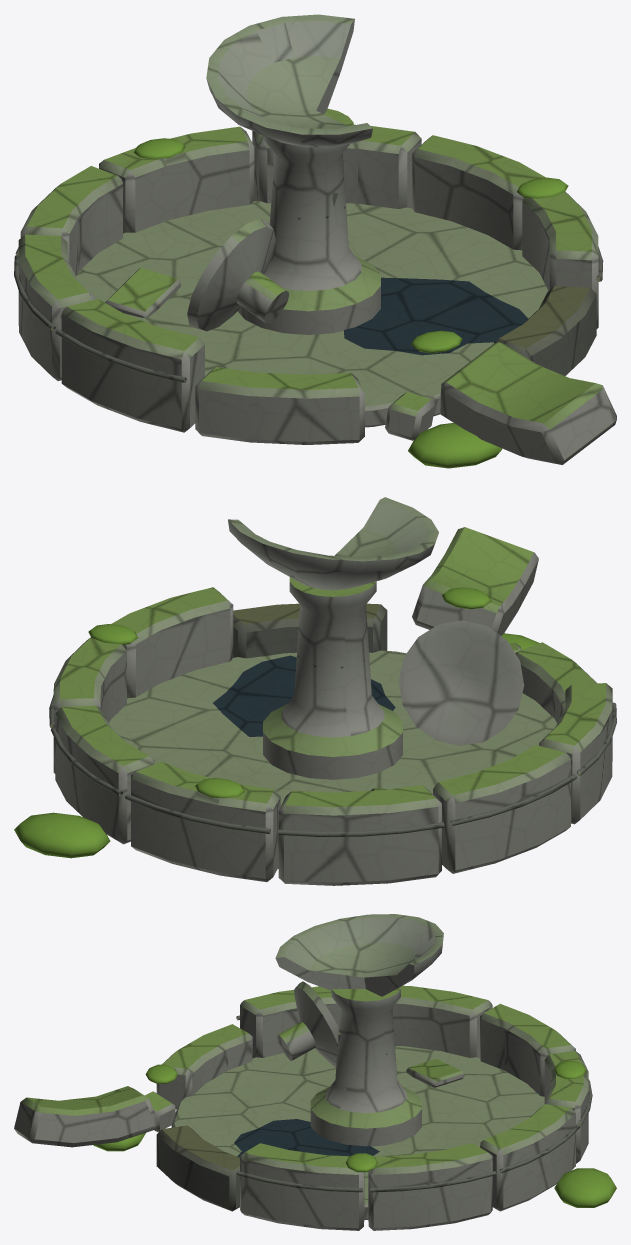
File: stone_fountain_ruin.glb
3 views of the same model, one above another, from view 1: azimuth 30°, elevation 25°; view 2: azimuth 150°, elevation 25°; view 3: azimuth 270°, elevation 25° (orthographic). The views are drawn at different scales.
Visible parts, largest first — view 1: stone_fountain_ruin; view 2: stone_fountain_ruin; view 3: stone_fountain_ruin.
Boxes of the visible parts, <box> form: stone_fountain_ruin: <box>14,14,616,468</box>; stone_fountain_ruin: <box>14,497,616,885</box>; stone_fountain_ruin: <box>14,914,616,1230</box>.
Size of the model in its own units: 3.61 by 1.87 by 4.81.
5 materials, 5 textured.
